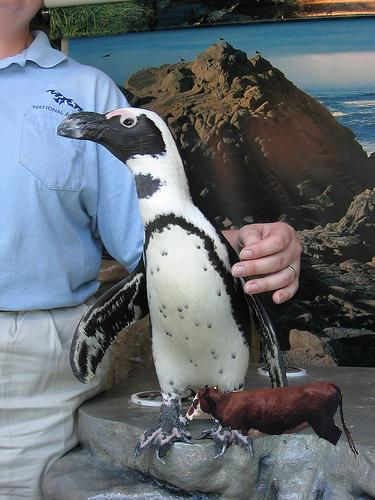tampered: (186, 382, 359, 458)
